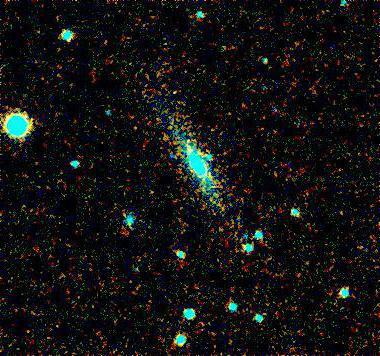star: (175, 126, 205, 156)
